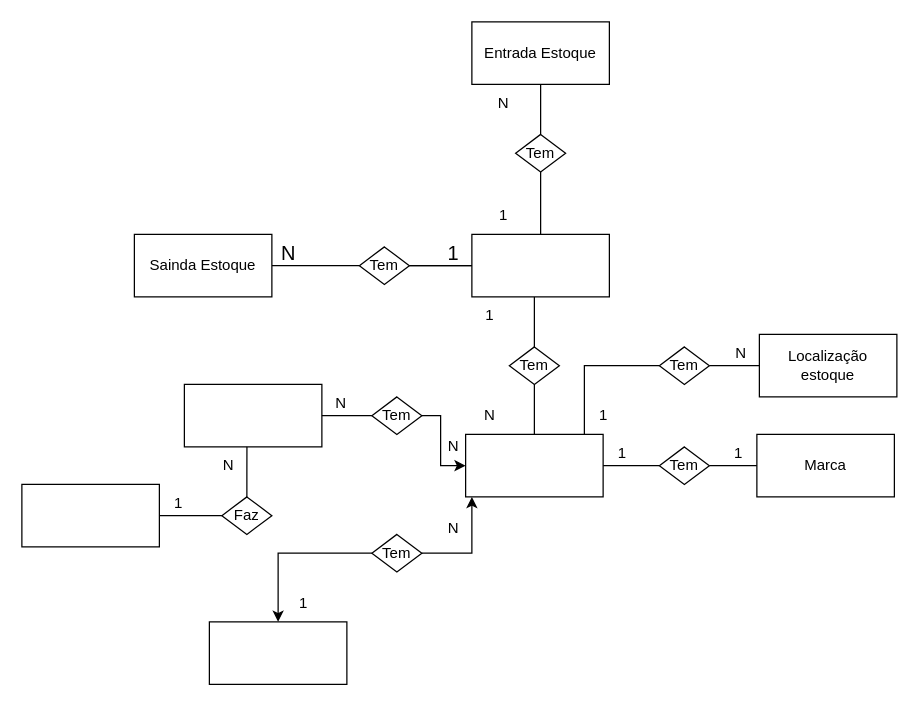
Some shapes in this 919 by 706 pixel diagram are drawn without their labels. Each missing label, with the box of its shape:
Cliente: (21, 483, 159, 547)
Compra: (183, 383, 322, 447)
Estoque: (471, 233, 609, 297)
Fornecedor: (208, 621, 347, 684)
Produto: (464, 433, 603, 497)
